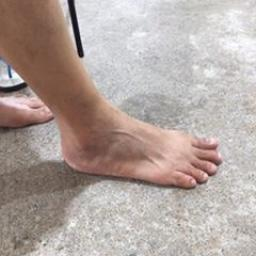Lateral View -Right Foot-: (42, 93, 224, 199)
